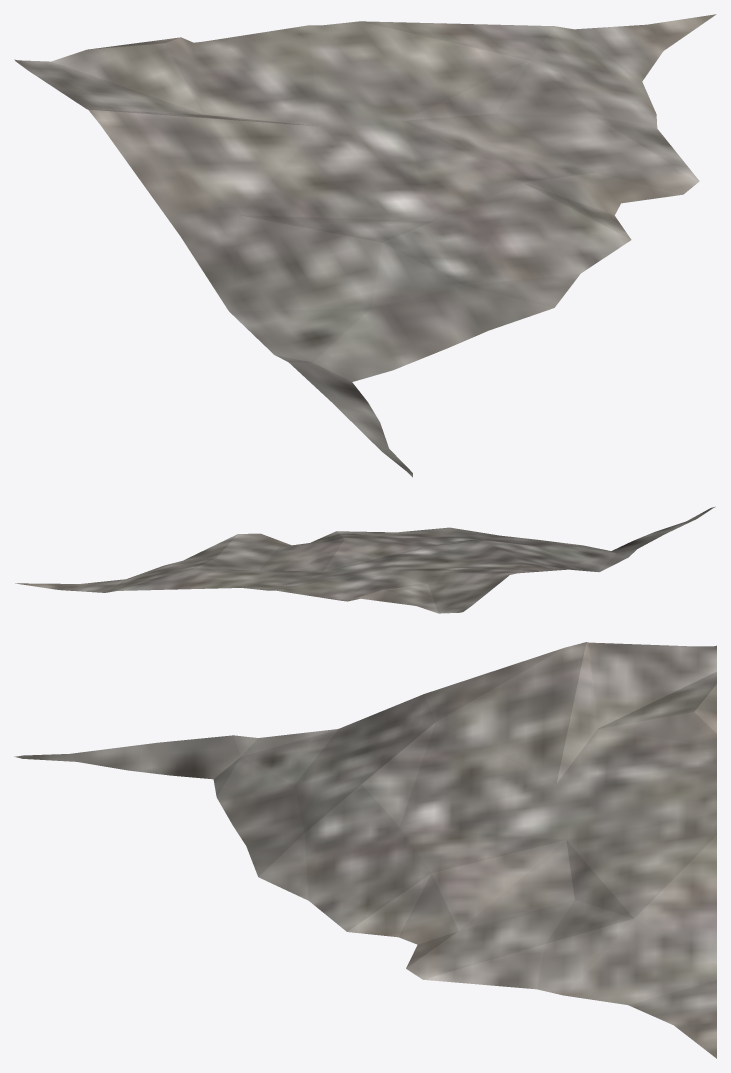
3 renders of one model, top to bottom at view 1: azimuth 30°, elevation 25°; view 2: azimuth 150°, elevation 25°; view 3: azimuth 270°, elevation 25°, orthographic. The views are drawn at different scales.
Bounding box in the file's own units: 0.2497 × 0.0442 × 0.2455.
Materials: 1 (1 with a texture image).
